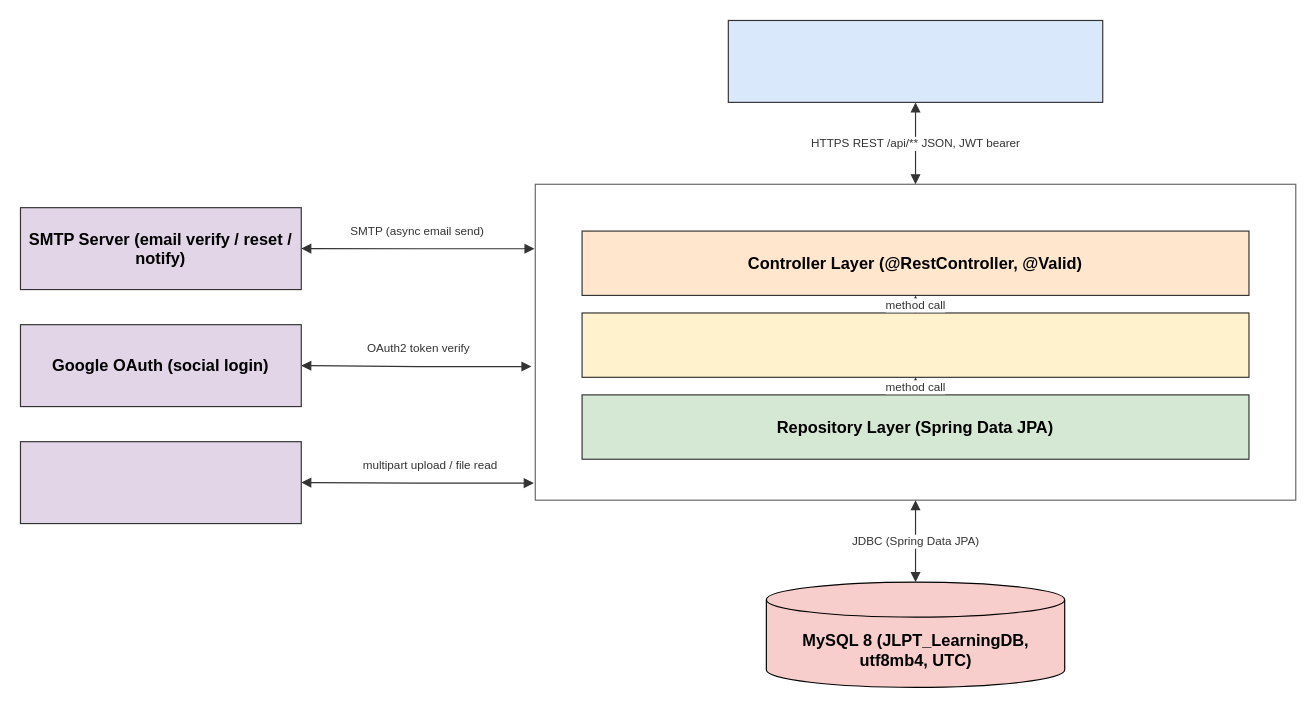
Image size: 1316x708. Some labels were removed from this diagram. The shapes that lost their labels are listed below. From the top down, each one's box as (x1, y1, x2, y2) in pixels, then its label:
(727, 19, 1103, 102): Web Browser (React 18 SPA, Vite)
(581, 312, 1249, 377): Service Layer (@Transactional, business rules)
(19, 441, 301, 524): File Storage (/uploads or S3-compatible)
